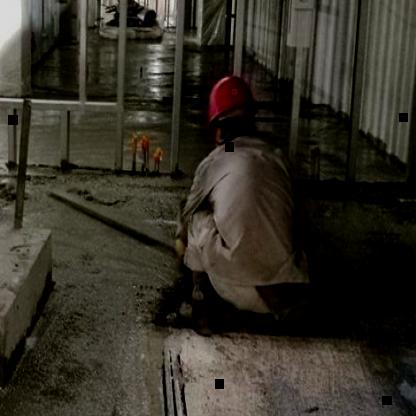helmet: (203, 66, 263, 132)
